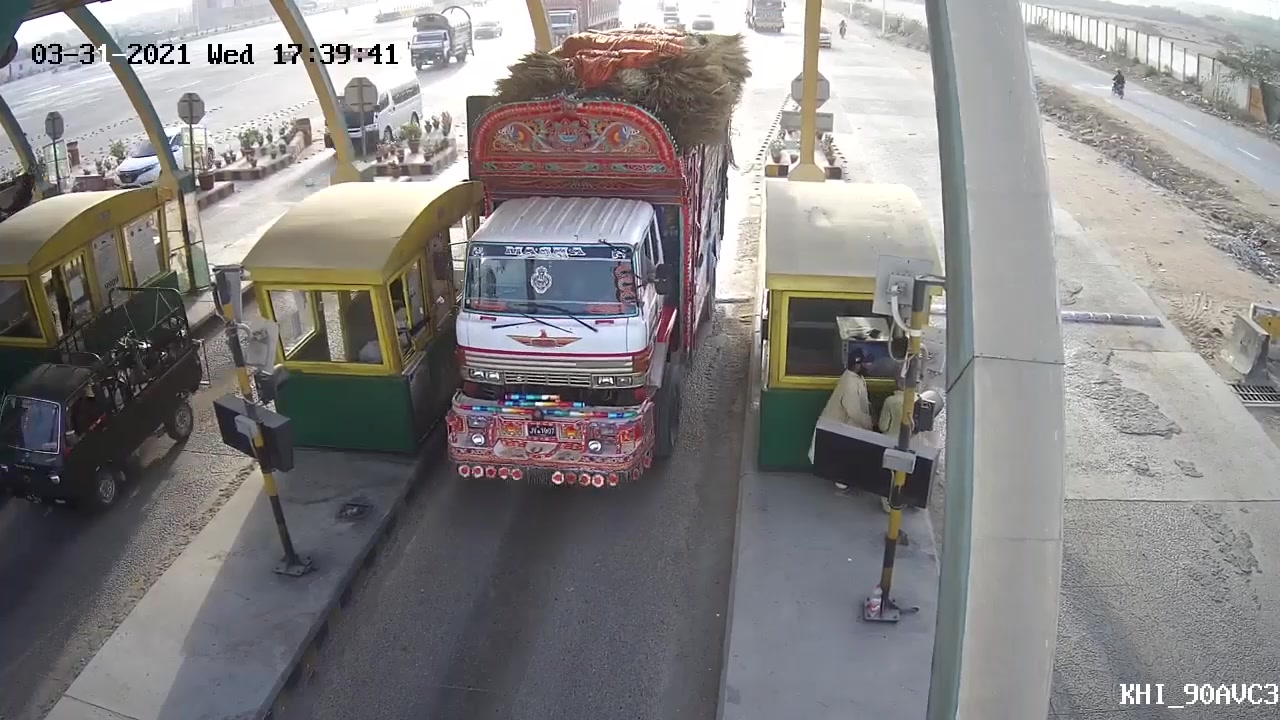F5: (434, 38, 729, 499)
